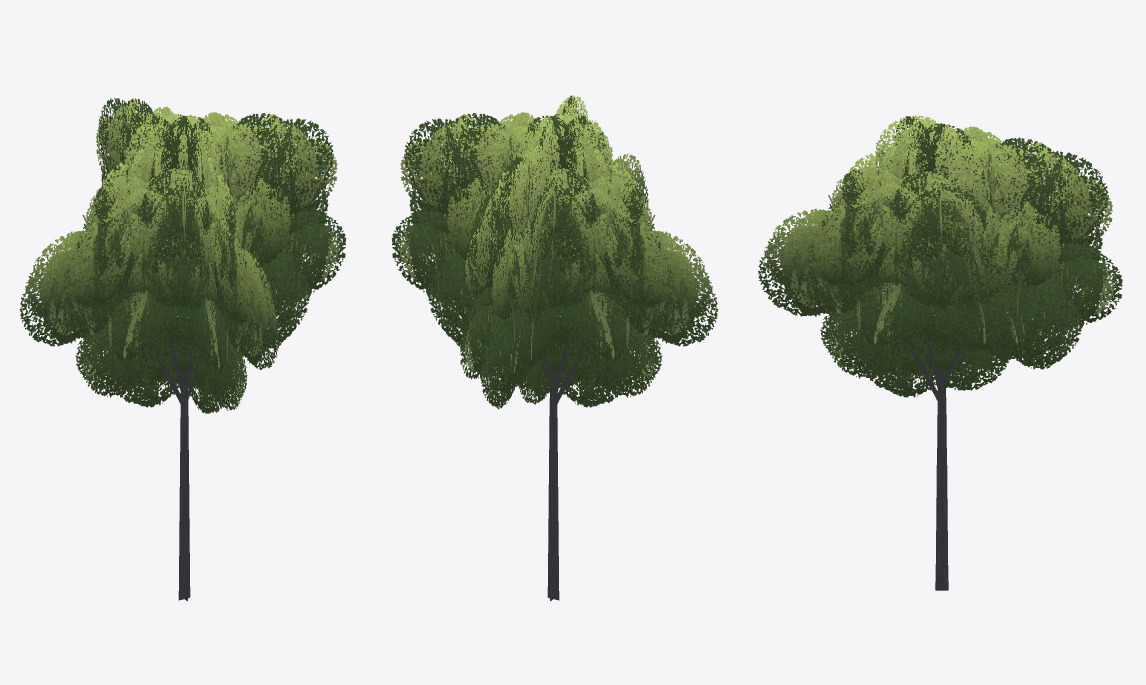
Rendered from tree_honeylocust_lifted_impostor.glb.
3 views of the same model, side by side, from view 1: azimuth 30°, elevation 25°; view 2: azimuth 150°, elevation 25°; view 3: azimuth 270°, elevation 25° (orthographic). The views are drawn at different scales.
Parts seen in each view (by area): view 1: tree_honeylocust_lifted_impostor; view 2: tree_honeylocust_lifted_impostor; view 3: tree_honeylocust_lifted_impostor.
Part boxes in pixels (<box>): tree_honeylocust_lifted_impostor: <box>19,97,346,601</box>; tree_honeylocust_lifted_impostor: <box>391,95,718,600</box>; tree_honeylocust_lifted_impostor: <box>758,115,1122,590</box>.
Size of the model in its own units: 9.63 by 13.89 by 9.63.
1 material, 1 textured.
